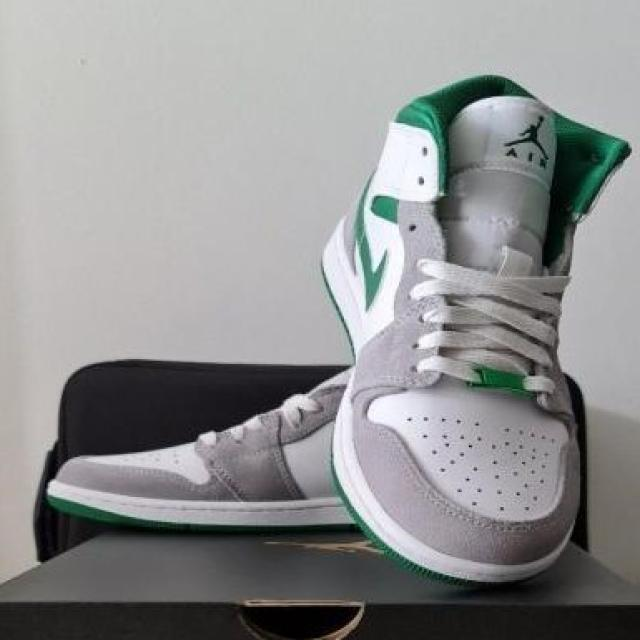J1_MateComp: (320, 72, 631, 586), (44, 361, 358, 531)
J1_ShoeLogo: (235, 597, 366, 639), (501, 112, 551, 169), (261, 533, 383, 556)
J1_ShoeShape: (34, 355, 590, 582)
J1_StitchPattern: (369, 249, 579, 535), (408, 253, 573, 416), (385, 406, 568, 532), (194, 366, 351, 502), (414, 300, 558, 378), (429, 417, 551, 499), (193, 427, 249, 503)
